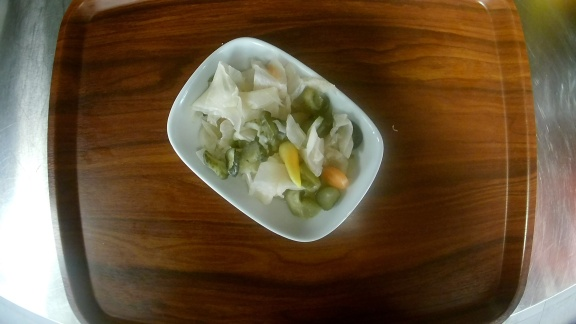tursu: (166, 37, 385, 243)
